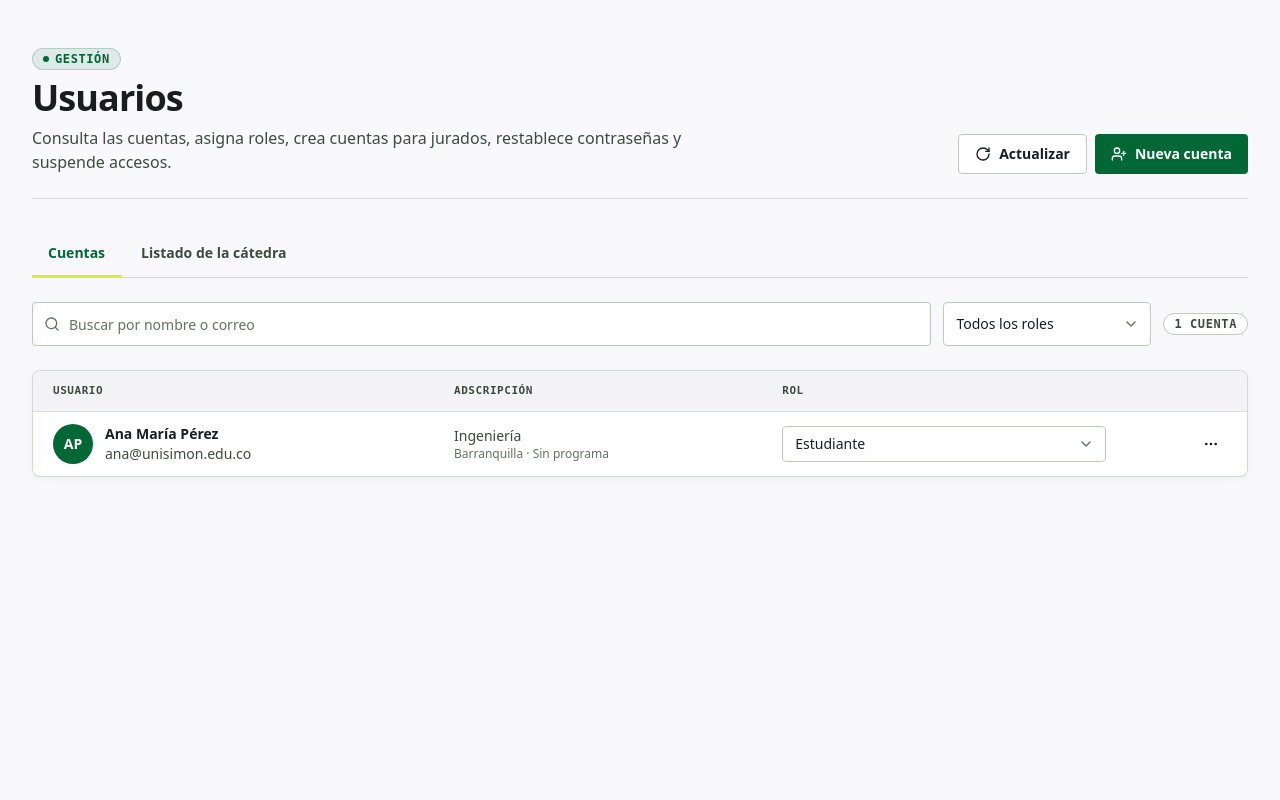
Test: Rol del listado por confirmar › sin rol pendiente no aparecen esas opciones
The width and height of the screenshot is (1280, 800).
Click the button named "Acciones para".
click(1211, 444)  # box [1195,428,1227,460]
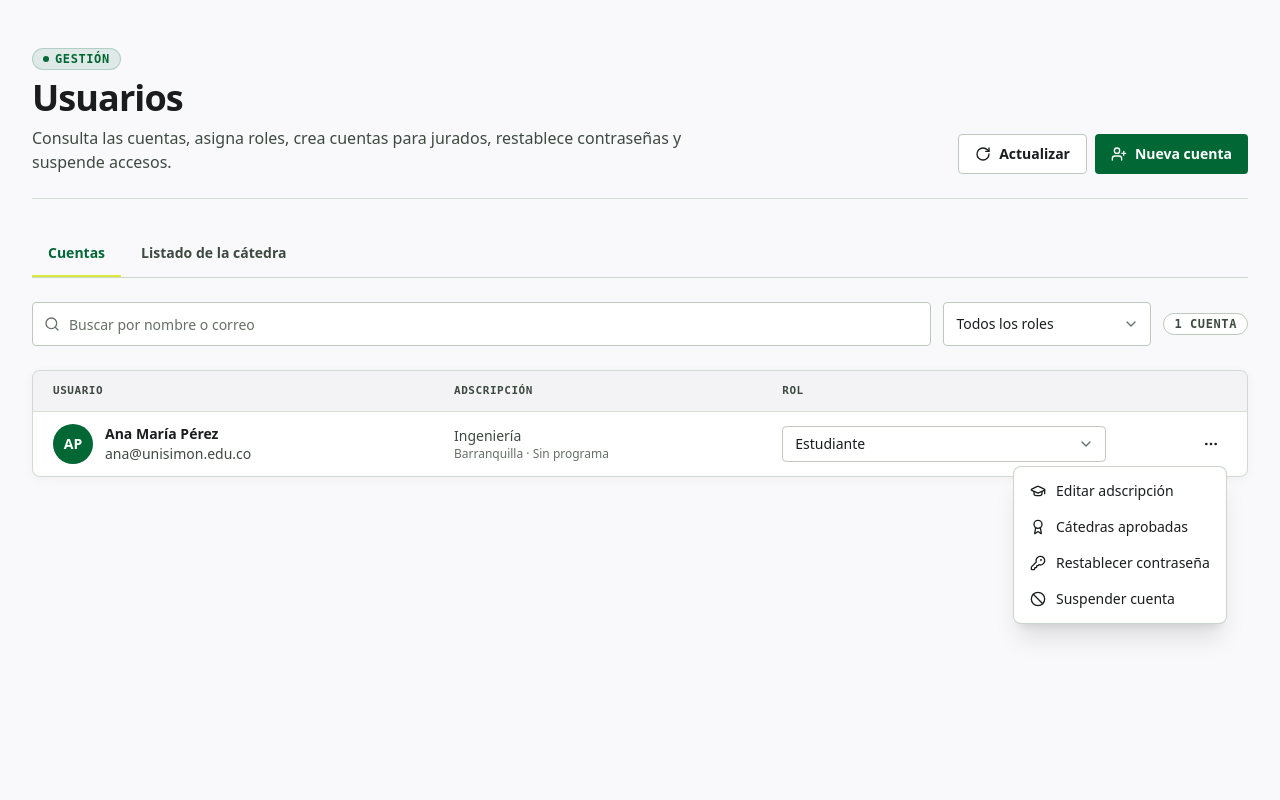
Check: the menu item "Restablecer contraseña" is shown, box [1030,553,1210,572]
